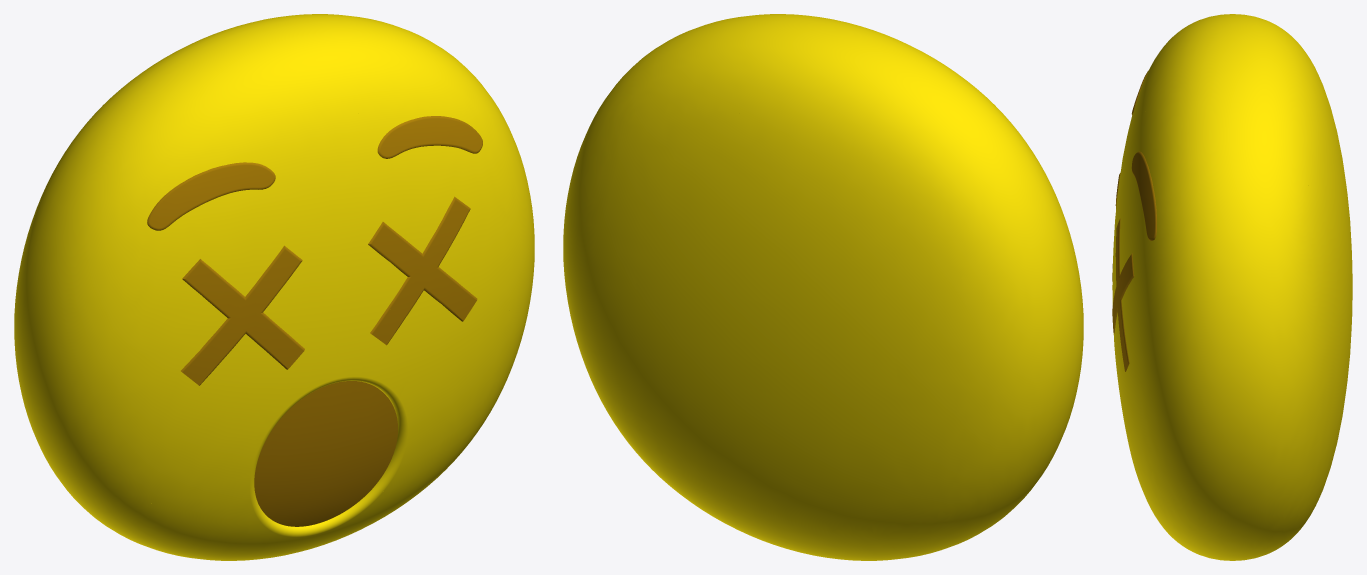
3 views of the same model, side by side, from view 1: azimuth 30°, elevation 25°; view 2: azimuth 150°, elevation 25°; view 3: azimuth 270°, elevation 25° (orthographic). The views are drawn at different scales.
Parts seen in each view (by area): view 1: 011_SmileEmoji_B; view 2: 011_SmileEmoji_B; view 3: 011_SmileEmoji_B.
Part boxes in pixels (bbox=[...]): 011_SmileEmoji_B: bbox=[14, 14, 534, 560]; 011_SmileEmoji_B: bbox=[563, 14, 1083, 560]; 011_SmileEmoji_B: bbox=[1112, 14, 1352, 560].
Bounding box in the file's own units: 0.1561 × 0.1561 × 0.0697.
